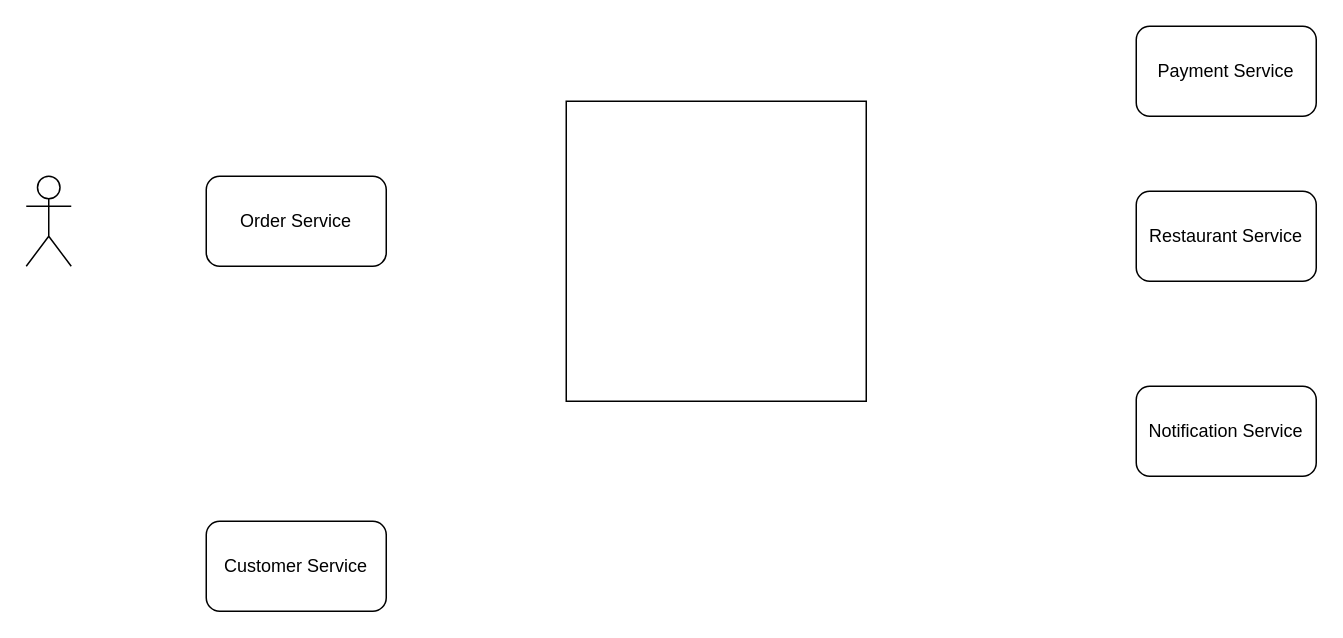
Some shapes in this 1343 by 638 pixel diagram are drawn without their labels. The centre of each missing label's shape, as x and y in pixels:
Actor: point (48, 220)
Kafka: point (715, 250)
